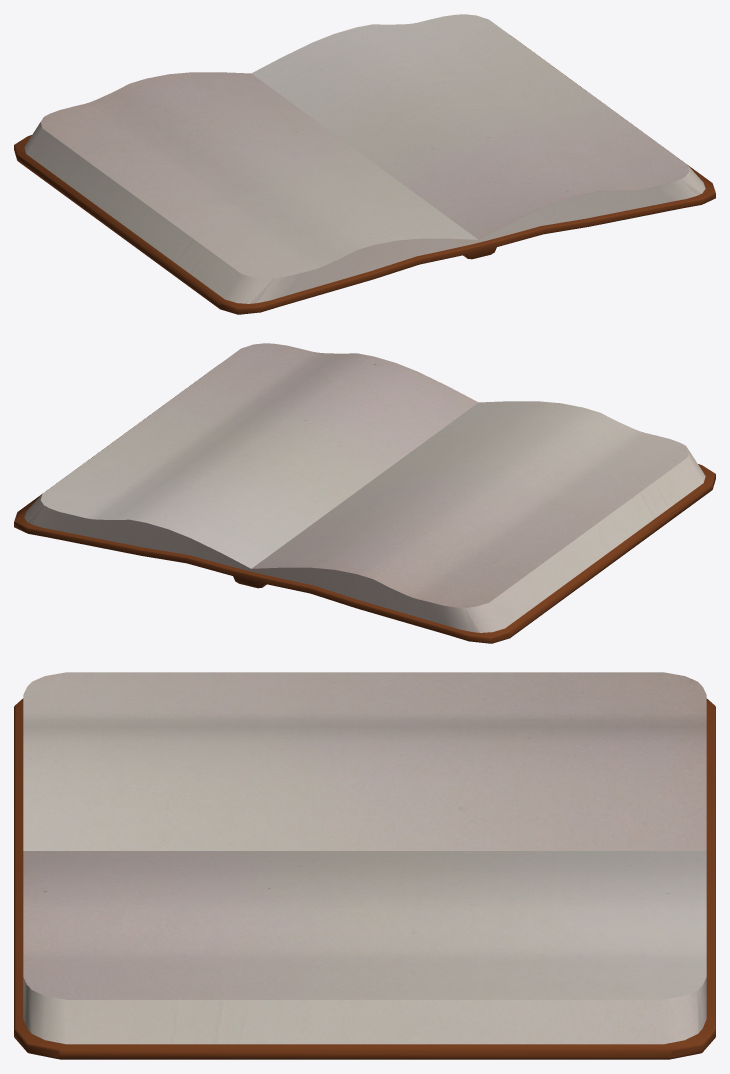
The model's file is Journal_Open.glb.
The picture shows the model from 3 angles, top to bottom: view 1: azimuth 30°, elevation 25°; view 2: azimuth 150°, elevation 25°; view 3: azimuth 270°, elevation 25°; orthographic projection. The views are drawn at different scales.
Parts seen in each view (by area): view 1: BookPages, BookCover; view 2: BookPages, BookCover; view 3: BookPages, BookCover.
Part boxes in pixels (<box>): BookPages: <box>24,14,705,303</box>; BookCover: <box>14,42,715,314</box>; BookPages: <box>24,343,705,632</box>; BookCover: <box>14,371,715,643</box>; BookPages: <box>23,672,706,1044</box>; BookCover: <box>14,698,715,1059</box>.
Size of the model in its own units: 14.12 by 1.07 by 11.6.
Materials: 2 (2 with a texture image).
